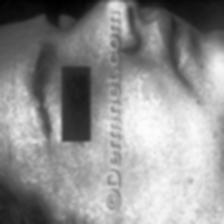Non-Cancerous Skin Condition: (128, 64, 224, 207), (0, 66, 40, 154), (41, 156, 88, 224), (63, 25, 113, 53)
